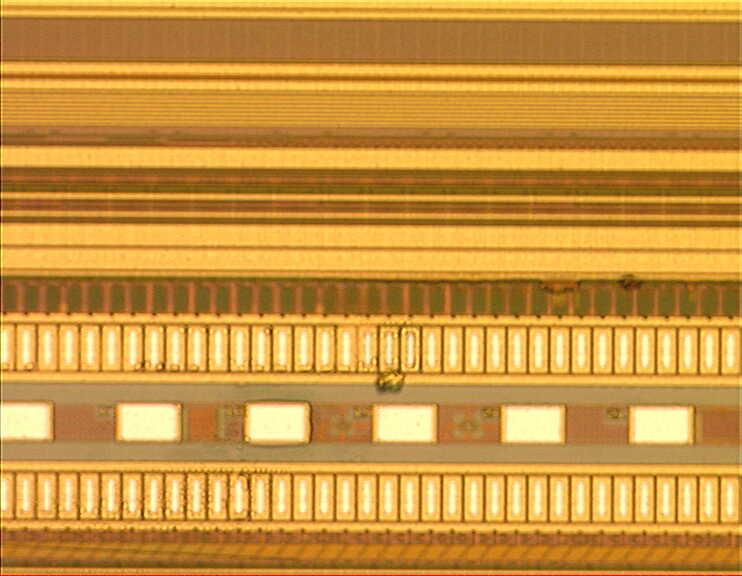PO CONTAMINATION: (1, 268, 647, 541)
